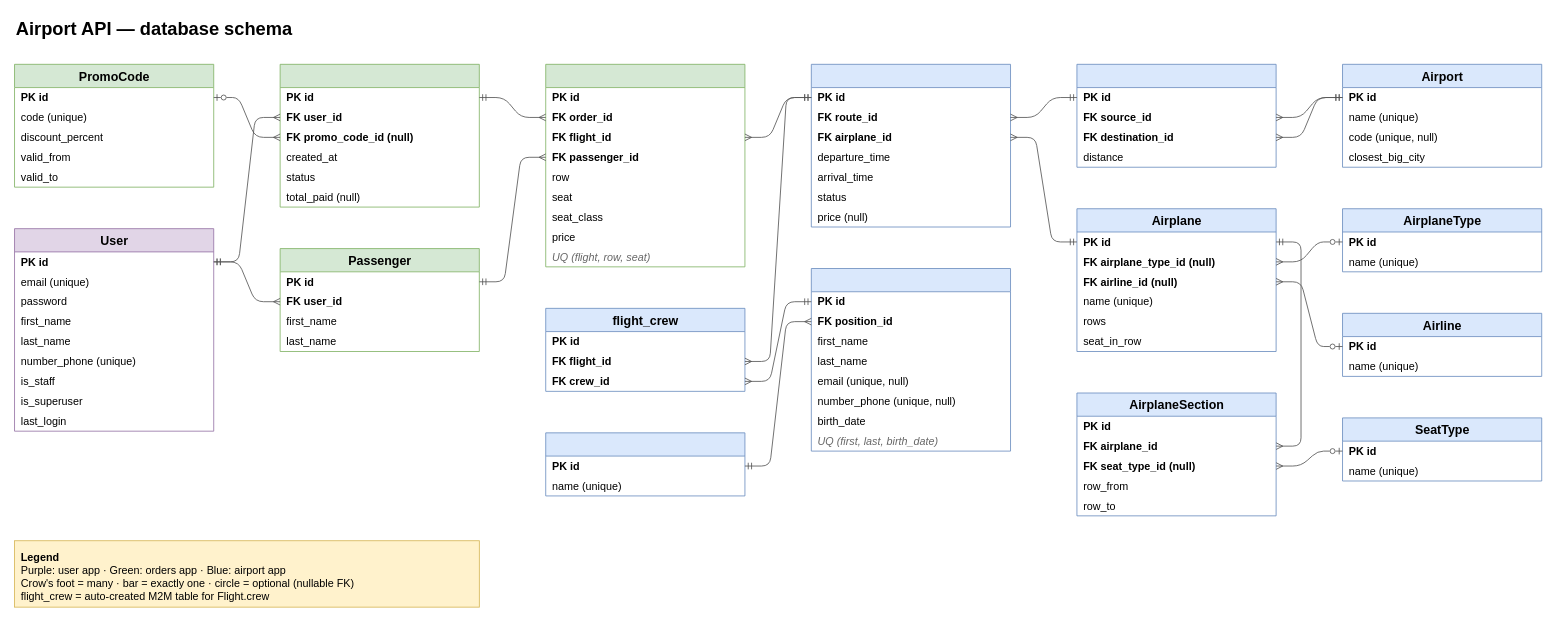
This 1556x622 diagram has some shape labels left out. Each missing label, with the box of its shape:
Crew: (810, 268, 1011, 451)
CrewPosition: (545, 432, 745, 496)
Flight: (810, 63, 1011, 227)
Order: (279, 63, 479, 207)
Route: (1076, 63, 1276, 167)
Ticket: (545, 63, 745, 267)
